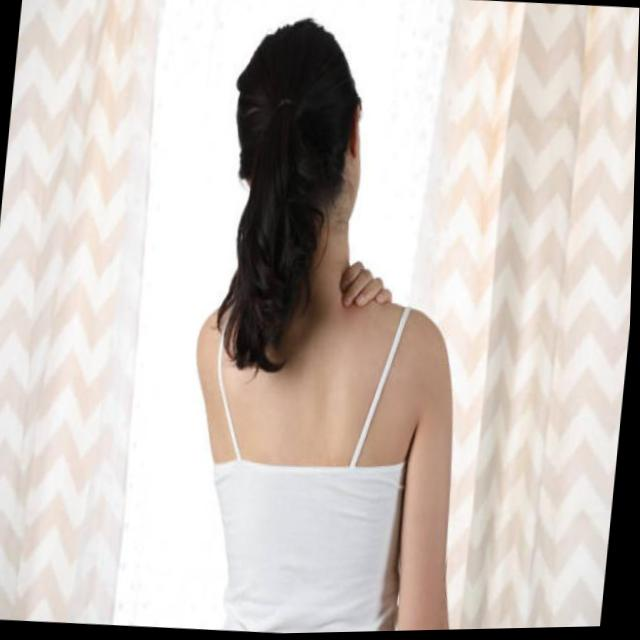no helmet: (213, 9, 381, 339)
